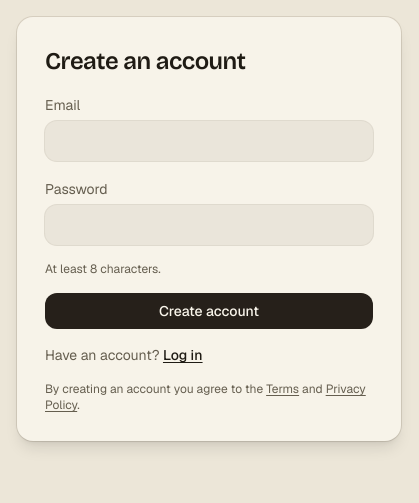
Test: SignupForm › shows the server's validation message
The image size is (419, 503).
In the field labelled "Email": (209, 141) top-left (45, 121), bottom-right (373, 161), type "ann@example.com"
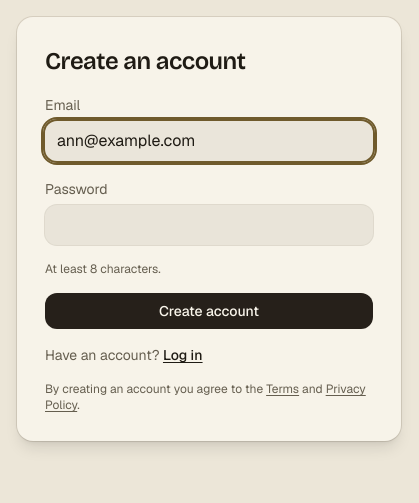
In the password field labelled "Password": (209, 225) top-left (45, 205), bottom-right (373, 245), type "correct-horse"
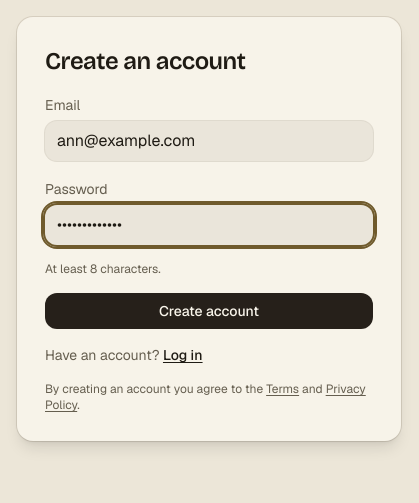
Click the button "Create account": (209, 311) top-left (45, 293), bottom-right (373, 329)
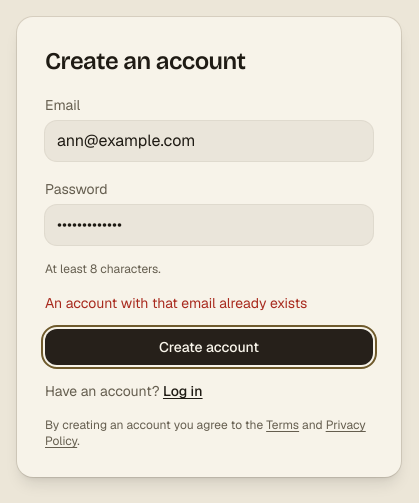
expect the message reads "An account with that email already exists": met, box top-left (45, 294), bottom-right (307, 312)
